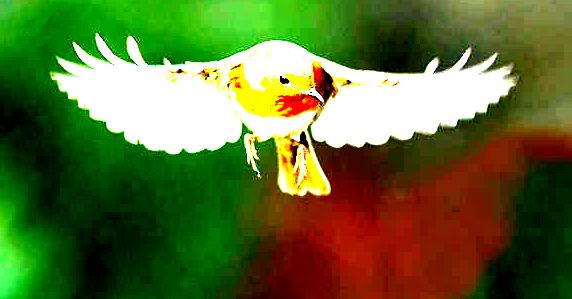Bird: (44, 29, 525, 202)
